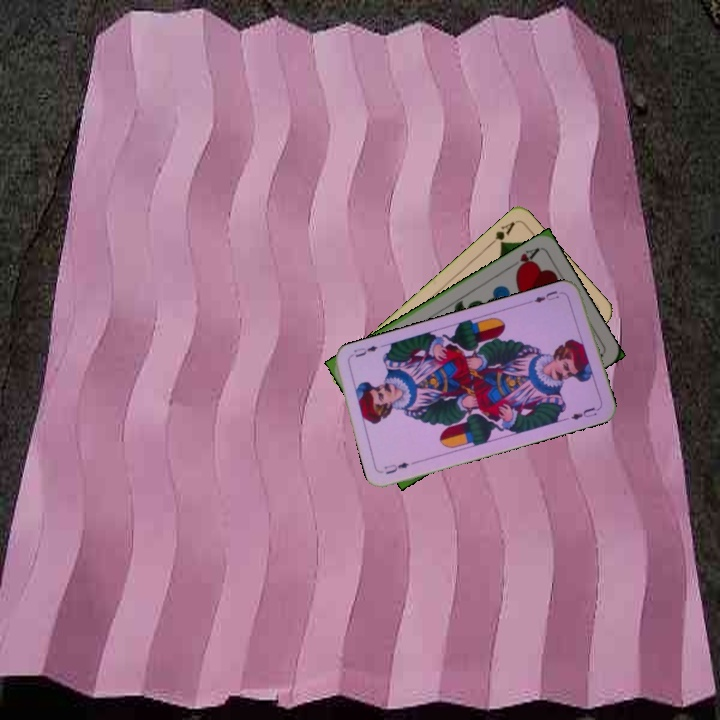EU: (526, 287, 566, 305), (380, 458, 411, 477)
GA: (484, 217, 518, 249)
HA: (505, 243, 542, 274)
